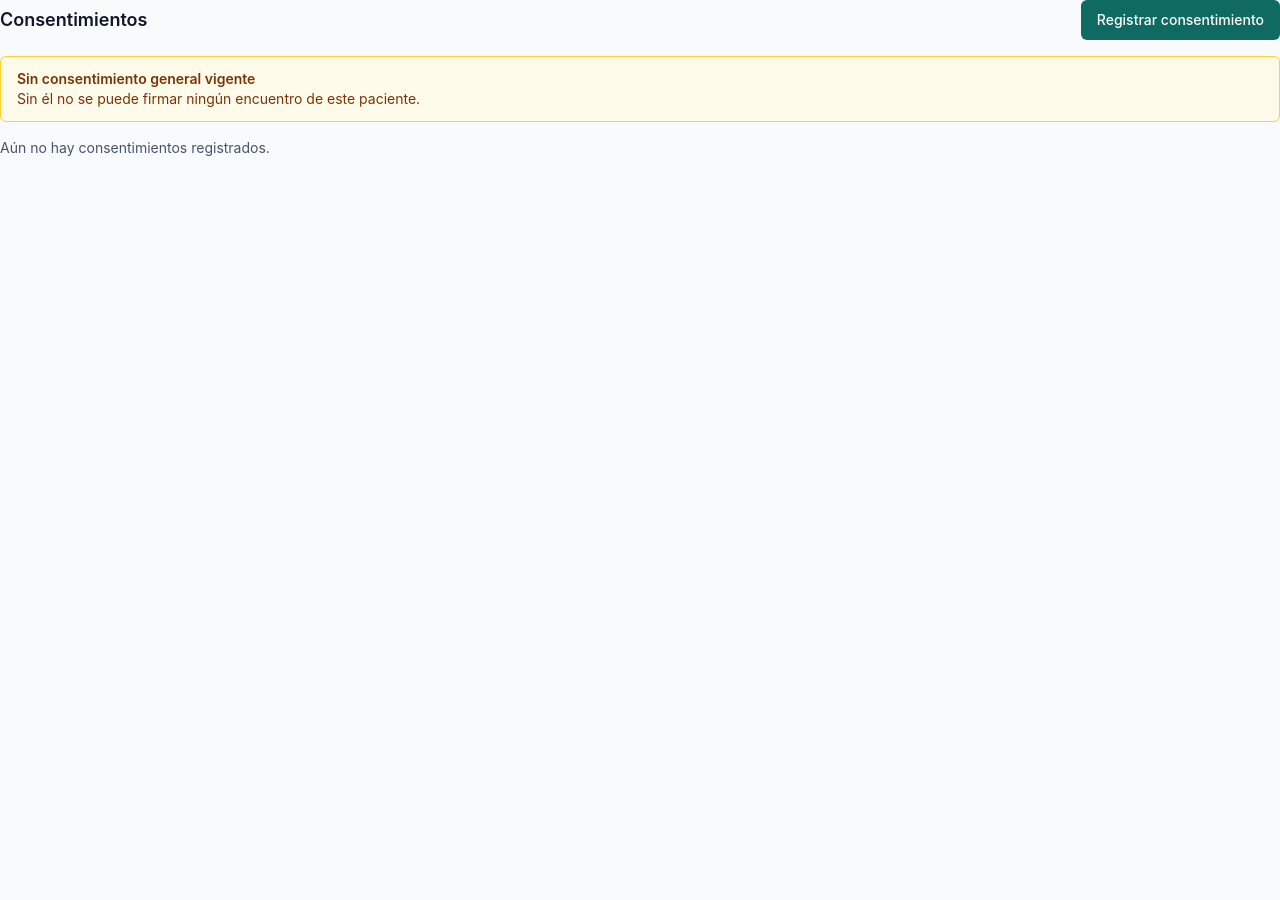
Test: ConsentsPanel: captura › en un menor firma el apoderado: se precarga y la relación es obligatoria
Click the button "Registrar consentimiento": click(1180, 20) x1=1081 y1=0 x2=1279 y2=40
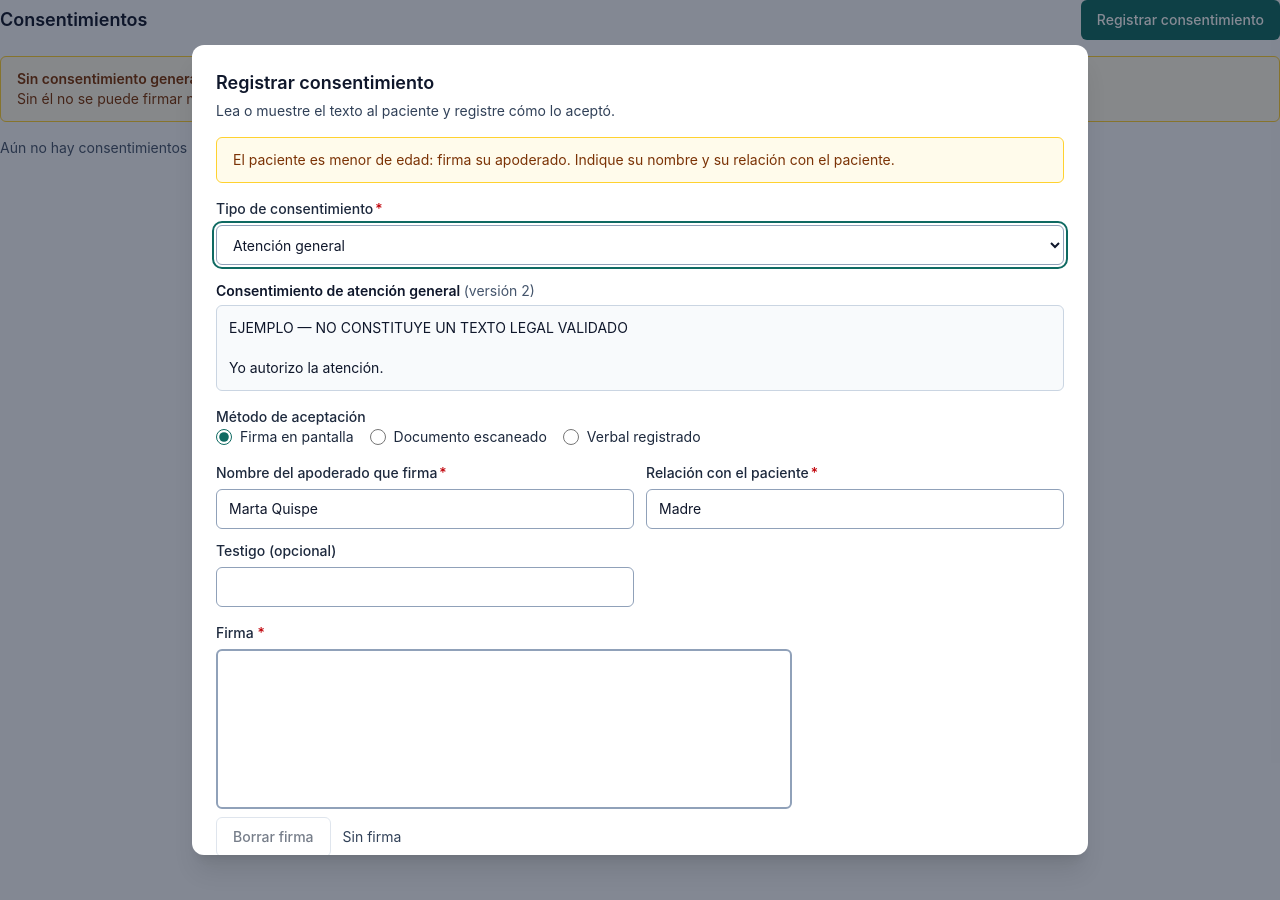
Expected: the text "menor de edad: firma su apoderado" is shown, x1=233 y1=151 x2=895 y2=168
Expected: the field labelled "Nombre del apoderado que firma*" holds "Marta Quispe", x1=216 y1=489 x2=634 y2=529
Expected: the field labelled "Relación con el paciente*" holds "Madre"
Clear the field labelled "Relación con el paciente*": (855, 509) x1=646 y1=489 x2=1064 y2=529
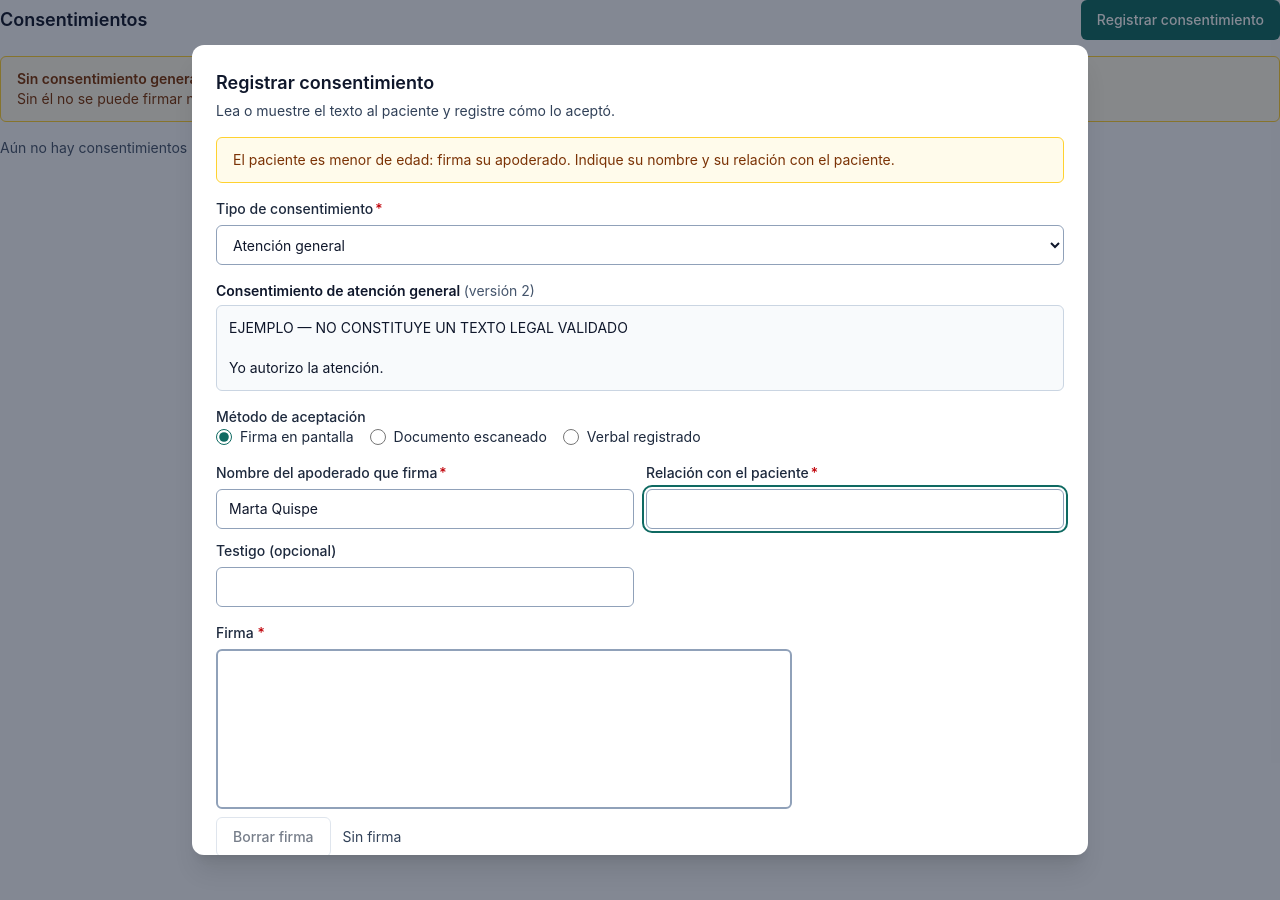
Press the mouse on the picture named "Área de firma": (504, 729) x1=216 y1=649 x2=792 y2=809
(page scrolled)
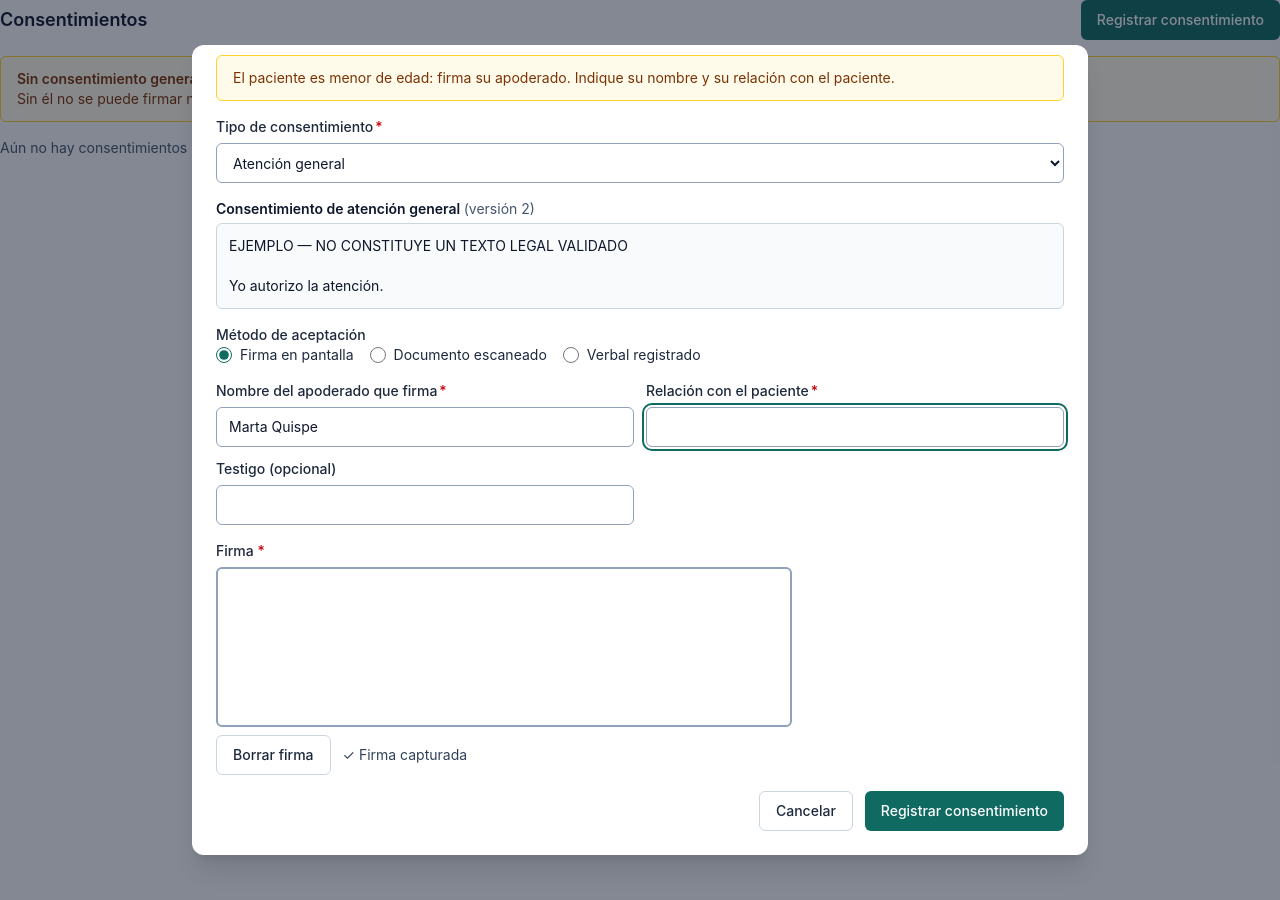
Click the button "Registrar consentimiento": click(964, 811) x1=865 y1=791 x2=1064 y2=831
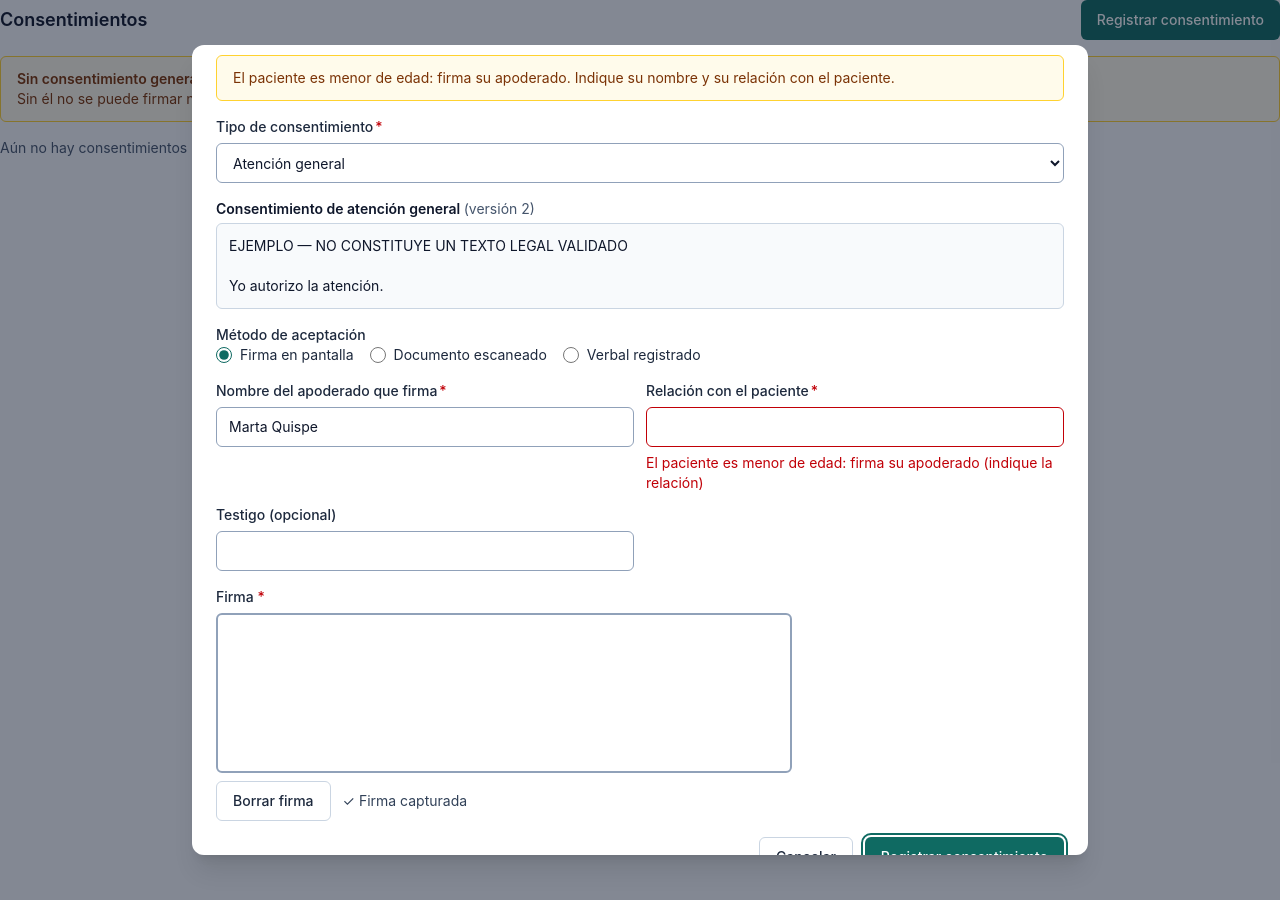
Expected: the text "El paciente es menor de edad: firma su apoderado (indique la relación)" is shown, x1=646 y1=453 x2=1064 y2=493
